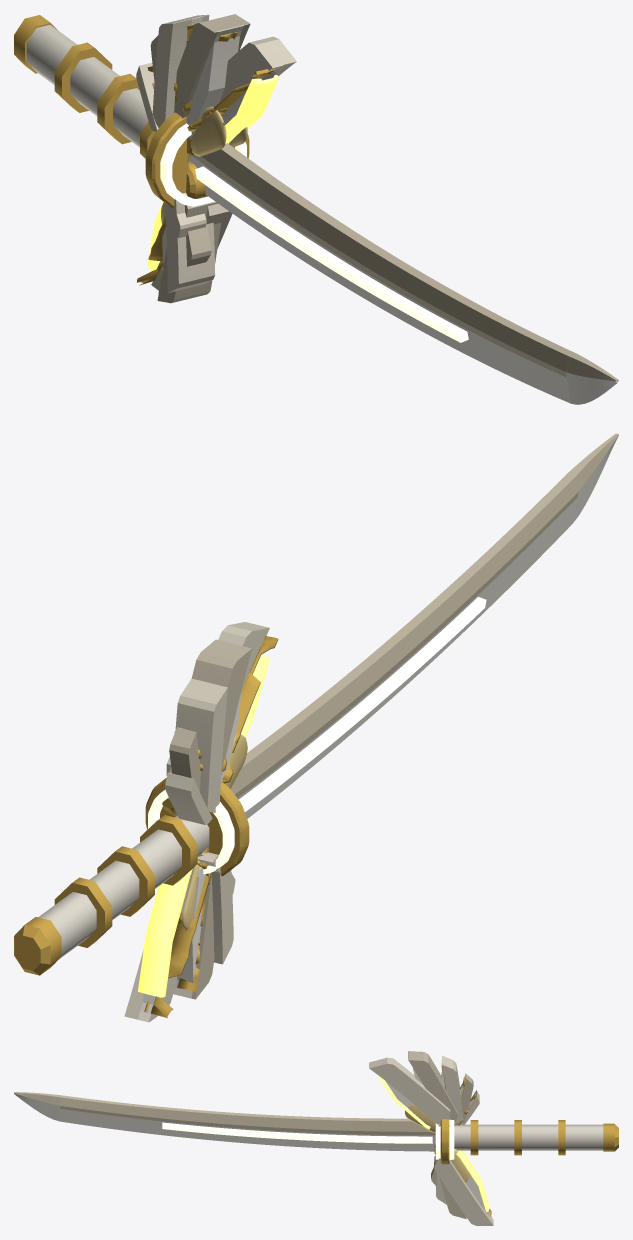
The model's file is w_katana@katana_seraph.glb.
3 renders of one model, top to bottom at view 1: azimuth 30°, elevation 25°; view 2: azimuth 150°, elevation 25°; view 3: azimuth 270°, elevation 25°, orthographic. The views are drawn at different scales.
Parts seen in each view (by area): view 1: kat_blade_wzB__steel__pcdc3ab, kat_guard_wzN__v2__pddd5c3, kat_blade_wzB__edge__pf1ede4, kat_guard_wzN__v3__pc7bea9, kat_tsuka_wzA__shell__pddd8cc, kat_blade_wzN__glow__nffe6a8, kat_trims_wzN__gold__pcfa84a, kat_guard_wzN__v1__pf3eee3, kat_guard_wzN__bone__pcfa84a, kat_guard_wzN__gold__pcfa84a, kat_guard_wzN__wglow__nffc860, kat_guard_wzN__cov__pe6cf8a (+2 smaller); view 2: kat_blade_wzB__steel__pcdc3ab, kat_guard_wzN__v2__pddd5c3, kat_tsuka_wzA__shell__pddd8cc, kat_guard_wzN__v3__pc7bea9, kat_blade_wzB__edge__pf1ede4, kat_blade_wzN__glow__nffe6a8, kat_trims_wzN__gold__pcfa84a, kat_guard_wzN__wglow__nffc860, kat_guard_wzN__bone__pcfa84a, kat_guard_wzN__gold__pcfa84a, kat_tsuka_wzN__gold__pcfa84a, kat_guard_wzN__v1__pf3eee3 (+2 smaller); view 3: kat_blade_wzB__steel__pcdc3ab, kat_guard_wzN__v2__pddd5c3, kat_blade_wzB__edge__pf1ede4, kat_tsuka_wzA__shell__pddd8cc, kat_blade_wzN__glow__nffe6a8, kat_guard_wzN__v3__pc7bea9, kat_trims_wzN__gold__pcfa84a, kat_guard_wzN__wglow__nffc860, kat_guard_wzN__v1__pf3eee3, kat_guard_wzN__cov__pe6cf8a, kat_guard_wzN__glow__nffe6a8, kat_guard_wzN__gold__pcfa84a (+1 smaller).
Boxes of the visible parts, x1,y1,x2,y2 form: kat_blade_wzB__steel__pcdc3ab: (193,143,618,381); kat_guard_wzN__v2__pddd5c3: (136,14,296,292); kat_blade_wzB__edge__pf1ede4: (188,156,618,404); kat_guard_wzN__v3__pc7bea9: (150,14,250,303); kat_tsuka_wzA__shell__pddd8cc: (26,25,148,147); kat_blade_wzN__glow__nffe6a8: (195,166,468,342); kat_trims_wzN__gold__pcfa84a: (54,42,155,158); kat_guard_wzN__v1__pf3eee3: (151,16,283,284); kat_guard_wzN__bone__pcfa84a: (137,23,275,293); kat_guard_wzN__gold__pcfa84a: (145,112,249,208); kat_guard_wzN__wglow__nffc860: (147,75,279,271); kat_guard_wzN__cov__pe6cf8a: (161,106,247,223); kat_blade_wzB__steel__pcdc3ab: (230,433,618,798); kat_guard_wzN__v2__pddd5c3: (124,622,269,1022); kat_tsuka_wzA__shell__pddd8cc: (38,815,209,959); kat_guard_wzN__v3__pc7bea9: (169,639,252,999); kat_blade_wzB__edge__pf1ede4: (238,436,618,818); kat_blade_wzN__glow__nffe6a8: (239,597,486,811); kat_trims_wzN__gold__pcfa84a: (54,815,197,947); kat_guard_wzN__wglow__nffc860: (138,655,269,997); kat_guard_wzN__bone__pcfa84a: (144,636,278,1018); kat_guard_wzN__gold__pcfa84a: (145,778,249,876); kat_tsuka_wzN__gold__pcfa84a: (14,917,61,975); kat_guard_wzN__v1__pf3eee3: (138,628,269,1022); kat_blade_wzB__steel__pcdc3ab: (14,1092,435,1135); kat_guard_wzN__v2__pddd5c3: (369,1055,493,1225); kat_blade_wzB__edge__pf1ede4: (14,1093,435,1151); kat_tsuka_wzA__shell__pddd8cc: (454,1124,603,1150); kat_blade_wzN__glow__nffe6a8: (162,1122,432,1143); kat_guard_wzN__v3__pc7bea9: (408,1051,473,1219); kat_trims_wzN__gold__pcfa84a: (470,1120,565,1155); kat_guard_wzN__wglow__nffc860: (378,1075,489,1211); kat_guard_wzN__v1__pf3eee3: (385,1052,493,1221); kat_guard_wzN__cov__pe6cf8a: (405,1104,469,1182); kat_guard_wzN__glow__nffe6a8: (435,1119,454,1159); kat_guard_wzN__gold__pcfa84a: (440,1119,449,1164).
Bounding box in the file's own units: 0.0922 × 0.2887 × 0.9667.
